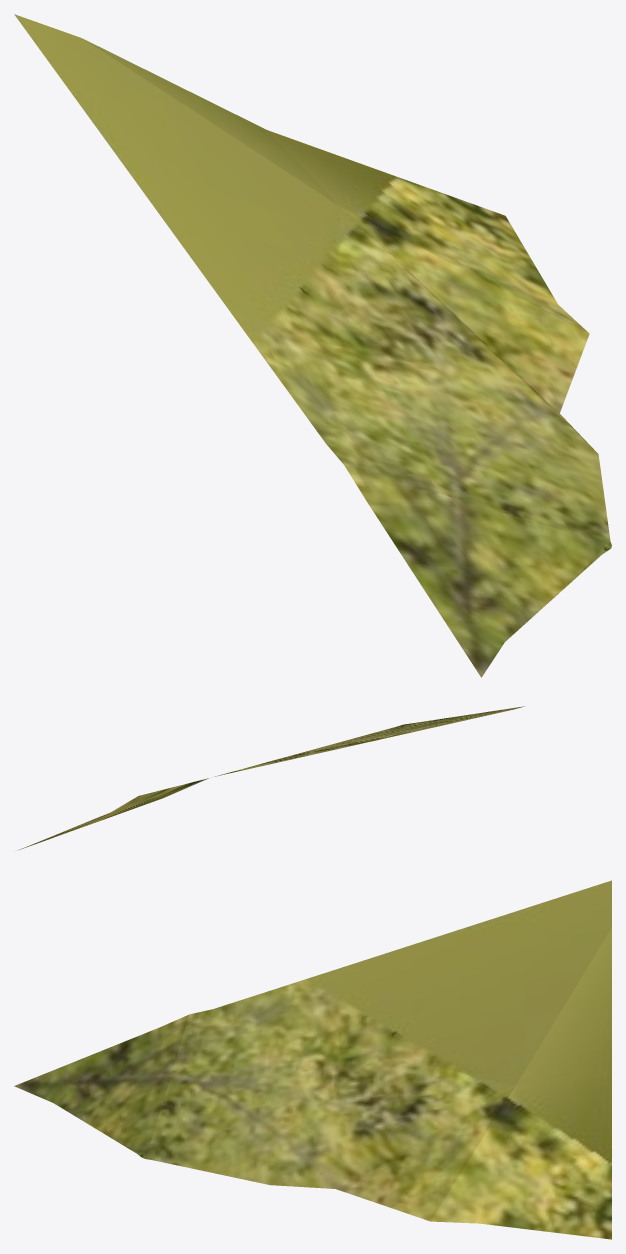
The picture shows the model from 3 angles, top to bottom: view 1: azimuth 30°, elevation 25°; view 2: azimuth 150°, elevation 25°; view 3: azimuth 270°, elevation 25°; orthographic projection. The views are drawn at different scales.
Size of the model in its own units: 1.41 by 0.8826 by 2.32.
1 material, 1 textured.
